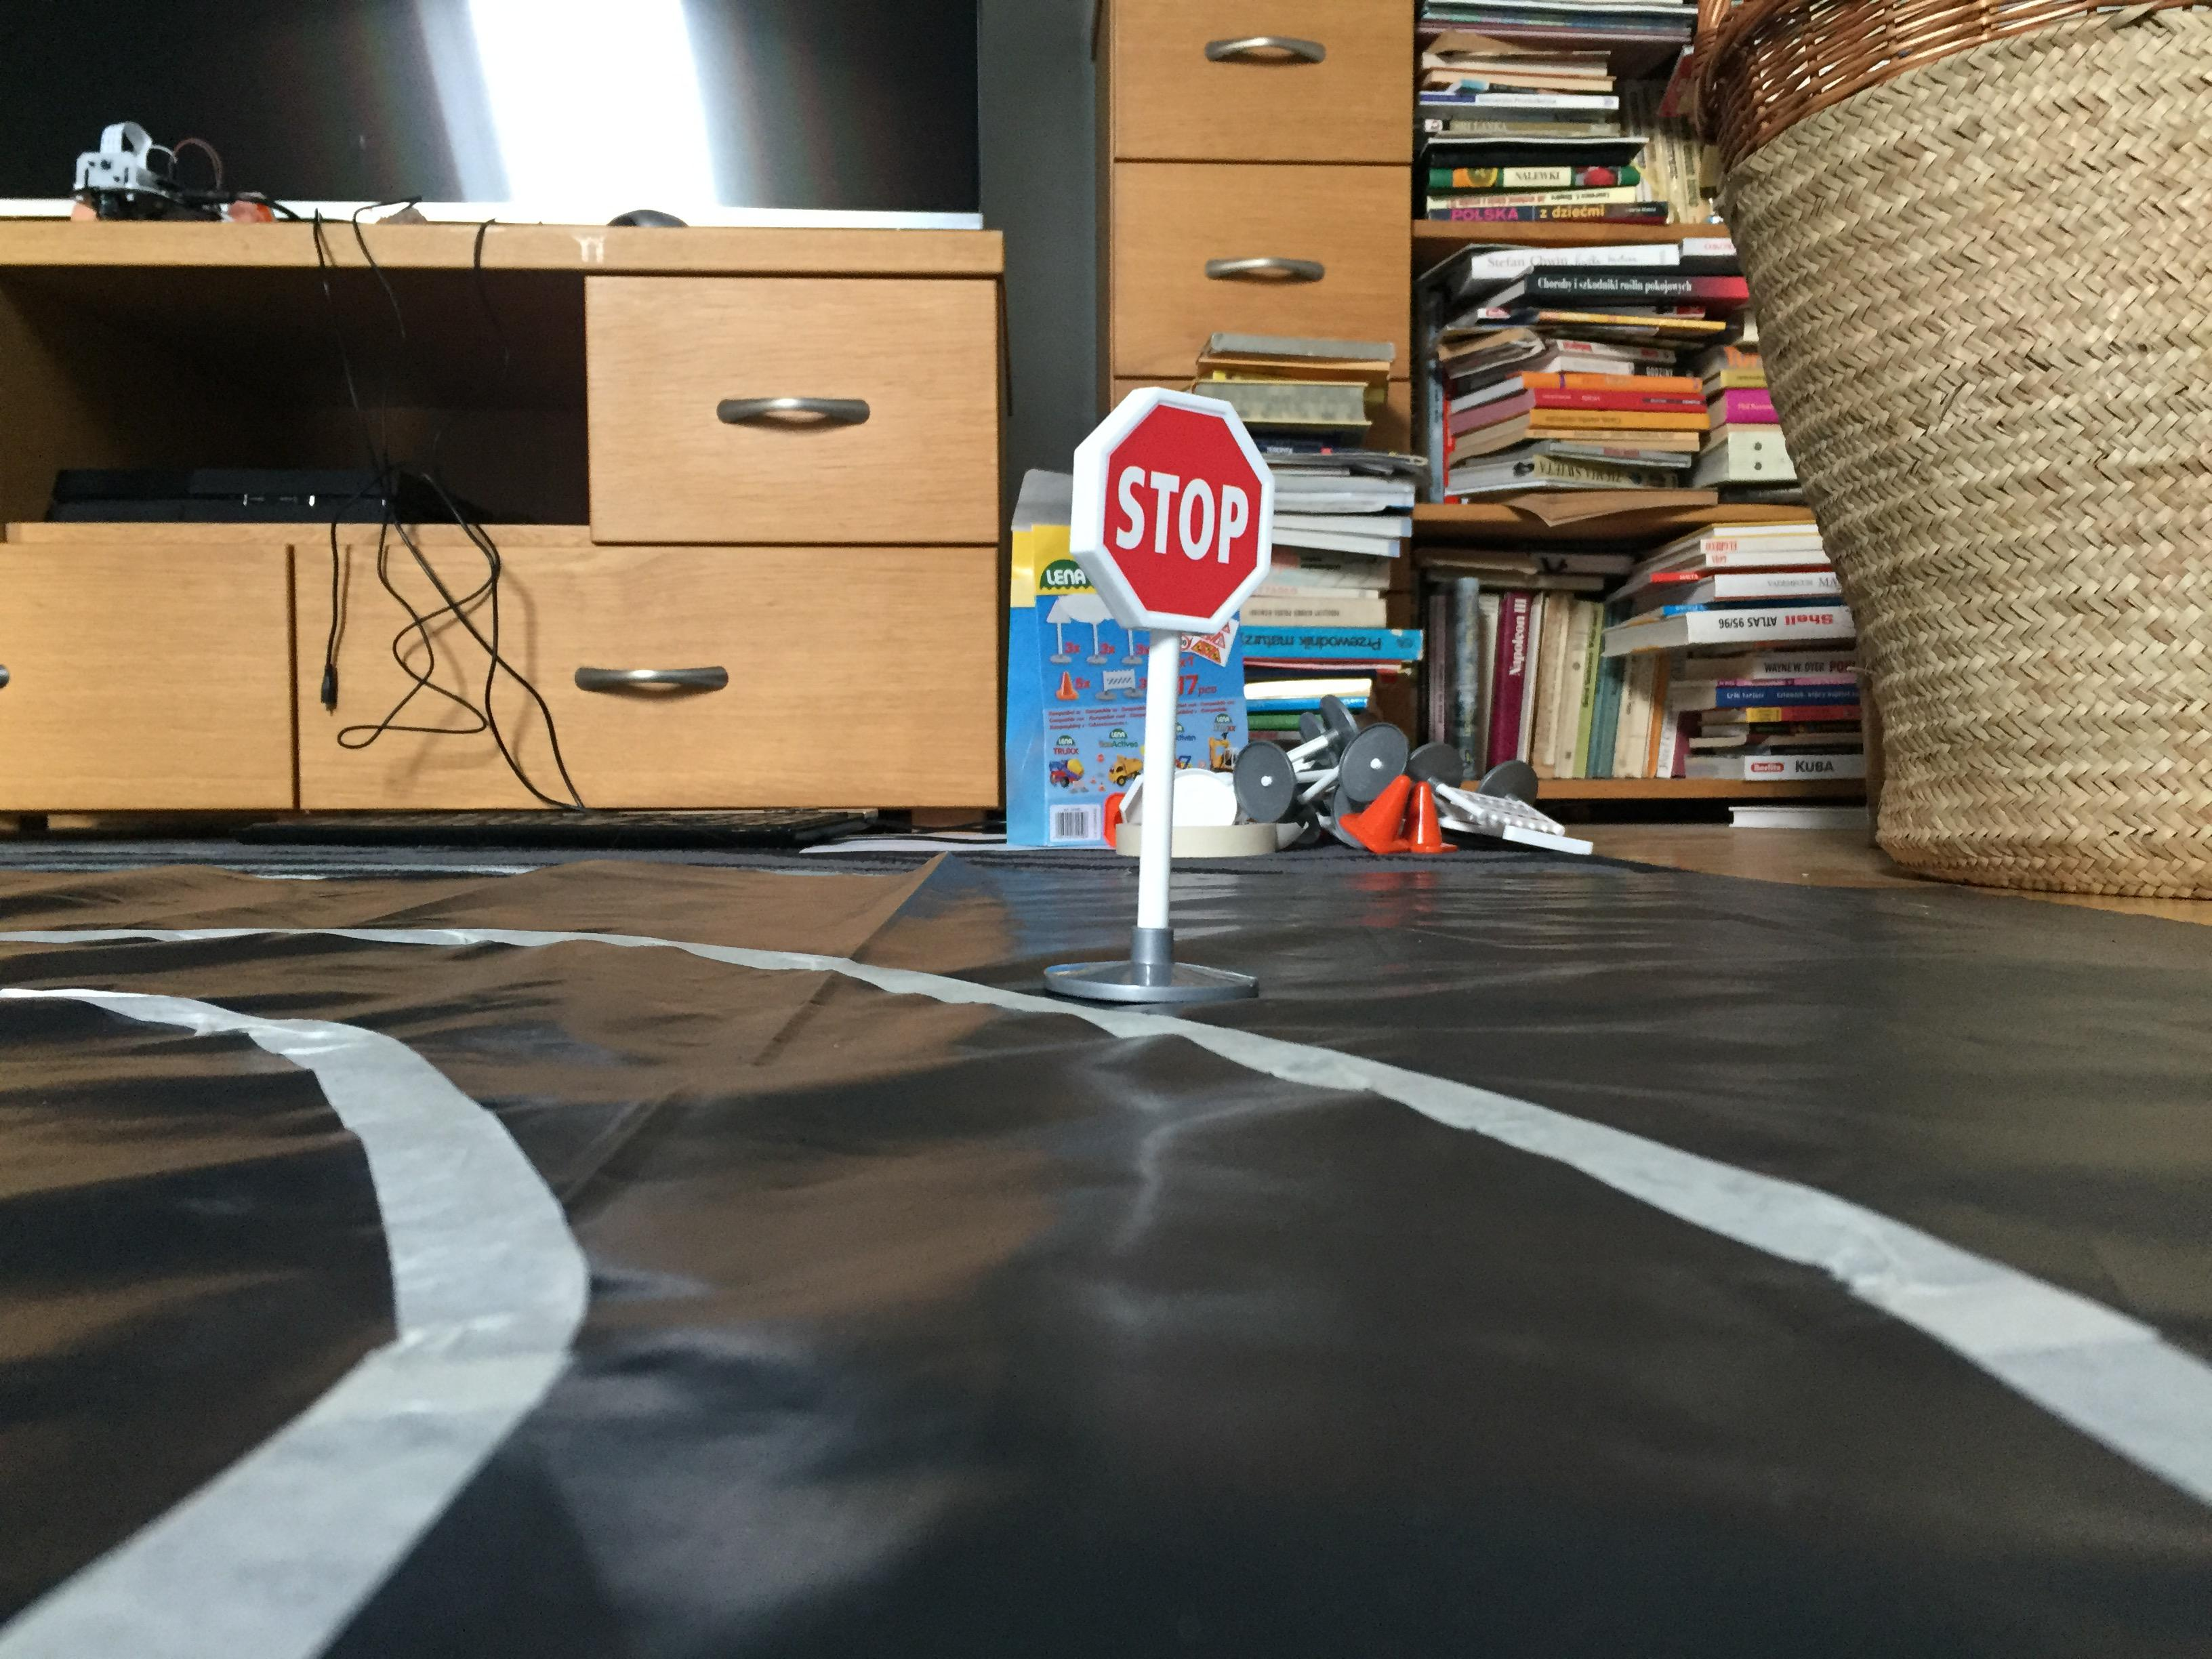stop: (1057, 382, 1285, 647)
